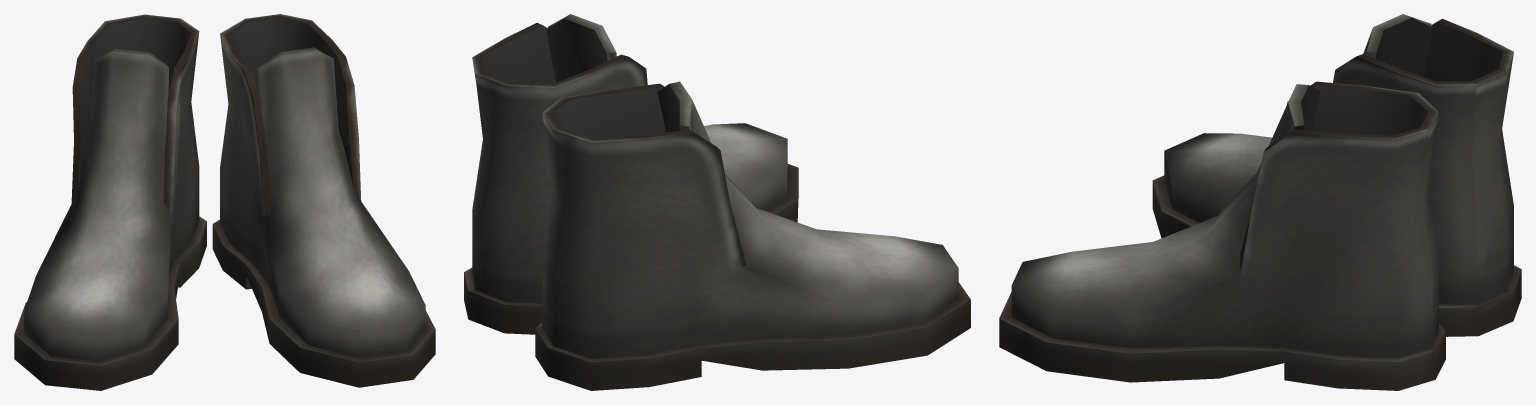
The model's file is TianZhuJiaoTang_01_xuezi_01.FBX.
The picture shows the model from 3 angles, left to right: view 1: azimuth 30°, elevation 25°; view 2: azimuth 150°, elevation 25°; view 3: azimuth 270°, elevation 25°; orthographic projection. The views are drawn at different scales.
Visible parts, largest first — view 1: TianZhuJiaoTang_01_xuezi_01; view 2: TianZhuJiaoTang_01_xuezi_01; view 3: TianZhuJiaoTang_01_xuezi_01.
Part boxes in pixels (bbox=[...]): TianZhuJiaoTang_01_xuezi_01: bbox=[14, 14, 435, 390]; TianZhuJiaoTang_01_xuezi_01: bbox=[464, 14, 970, 390]; TianZhuJiaoTang_01_xuezi_01: bbox=[999, 14, 1521, 390].
Bounding box in the file's own units: 227 × 138 × 248.
